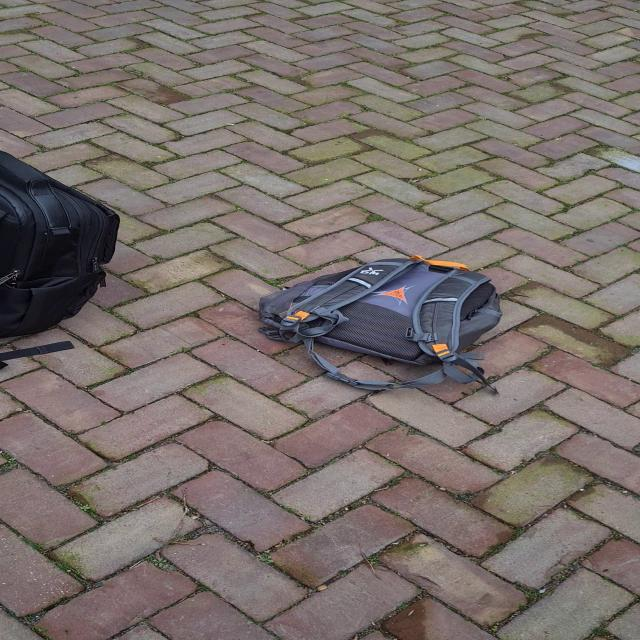backpack: (253, 254, 514, 397), (0, 144, 122, 362)
